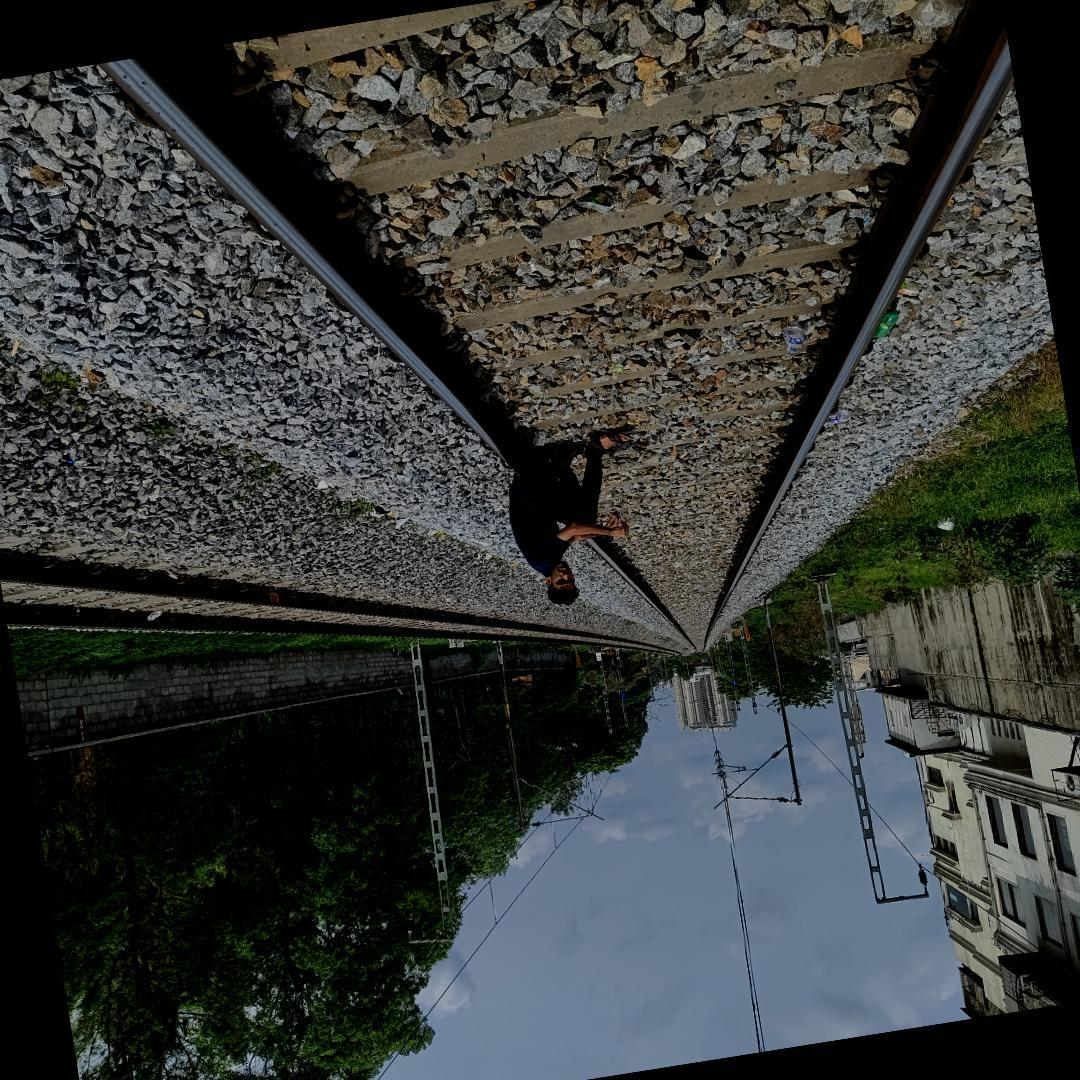sitting: (494, 412, 651, 627)
track: (59, 0, 1016, 653)
